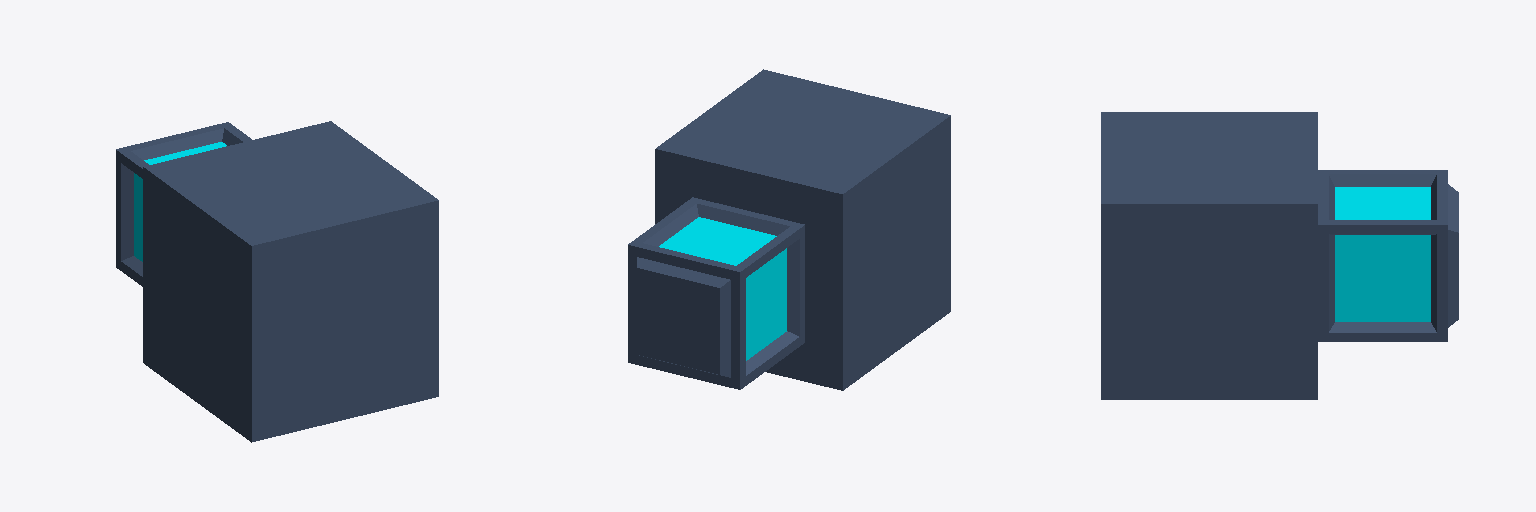
Rendered from 装饰格子5.obj.
3 views of the same model, side by side, from view 1: azimuth 30°, elevation 25°; view 2: azimuth 150°, elevation 25°; view 3: azimuth 270°, elevation 25° (orthographic).
Visible parts, largest first — view 1: 装饰格子5; view 2: 装饰格子5; view 3: 装饰格子5.
Boxes of the visible parts, x1,y1,x2,y2 form: 装饰格子5: [116, 121, 438, 442]; 装饰格子5: [628, 69, 950, 390]; 装饰格子5: [1101, 112, 1458, 399].
Size of the model in its own units: 1 by 1 by 1.65.